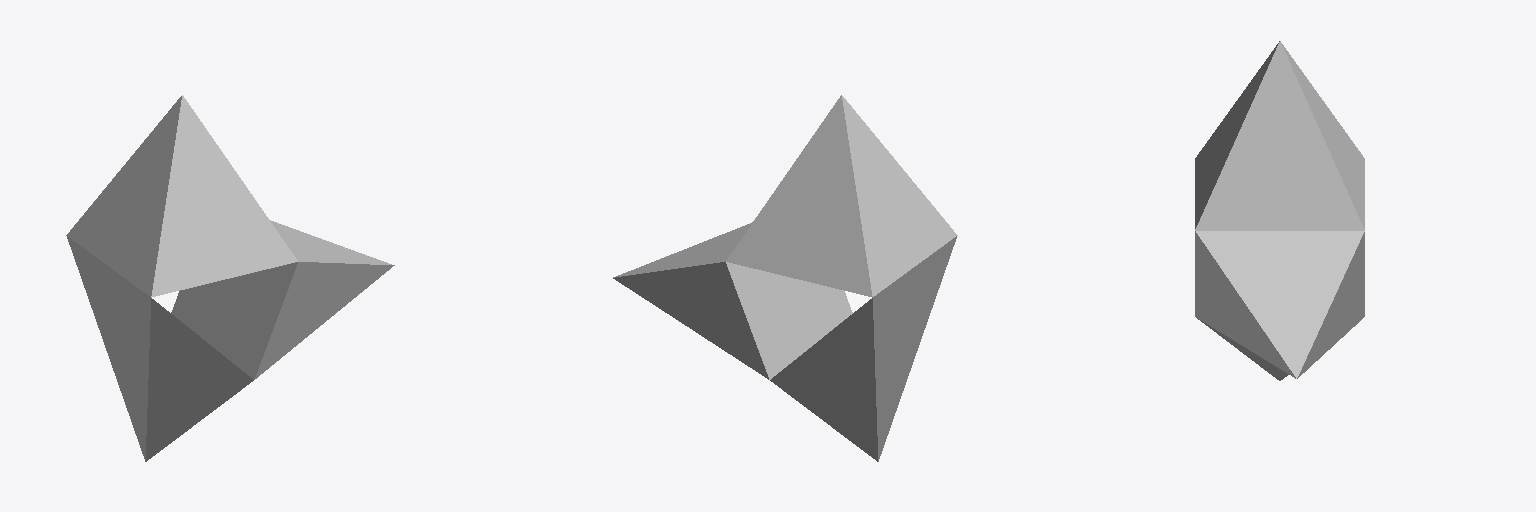
File: topo.obj
3 views of the same model, side by side, from view 1: azimuth 30°, elevation 25°; view 2: azimuth 150°, elevation 25°; view 3: azimuth 270°, elevation 25° (orthographic).
Bounding box in the file's own units: 2 × 2.33 × 1.